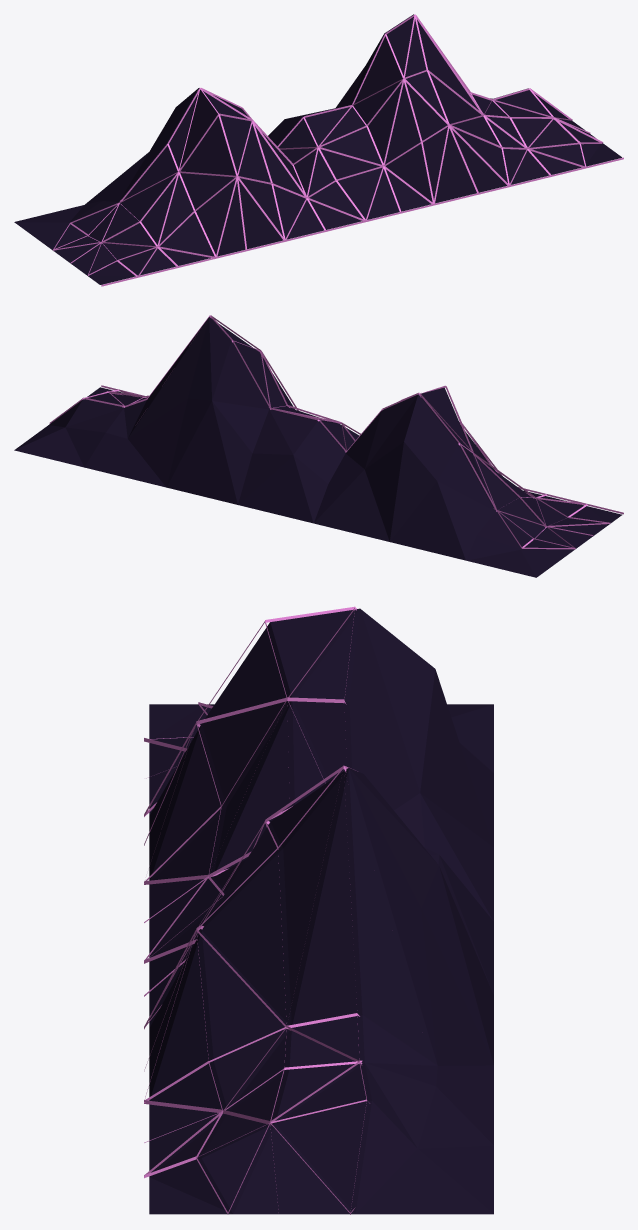
The model's file is mountain_b.glb.
3 renders of one model, top to bottom at view 1: azimuth 30°, elevation 25°; view 2: azimuth 150°, elevation 25°; view 3: azimuth 270°, elevation 25°, orthographic. The views are drawn at different scales.
Visible parts, largest first — view 1: root; view 2: root; view 3: root.
Part boxes in pixels (box(x1,y1,x2,y2)): root: box(14, 14, 623, 286); root: box(14, 315, 623, 577); root: box(144, 606, 493, 1214).
Size of the model in its own units: 701 by 189 by 203.
